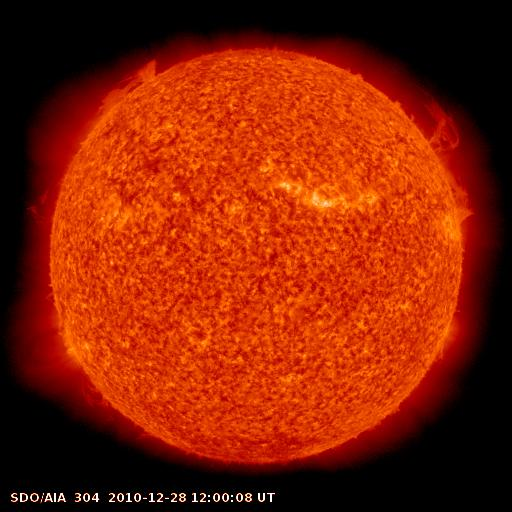prominence: (411, 85, 486, 225), (82, 46, 176, 126), (23, 170, 72, 236), (75, 371, 119, 423)
